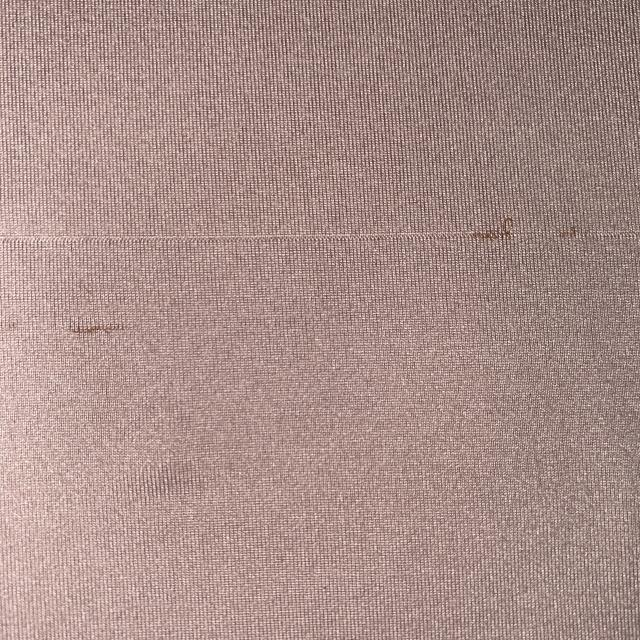Line: (0, 229, 640, 246)
